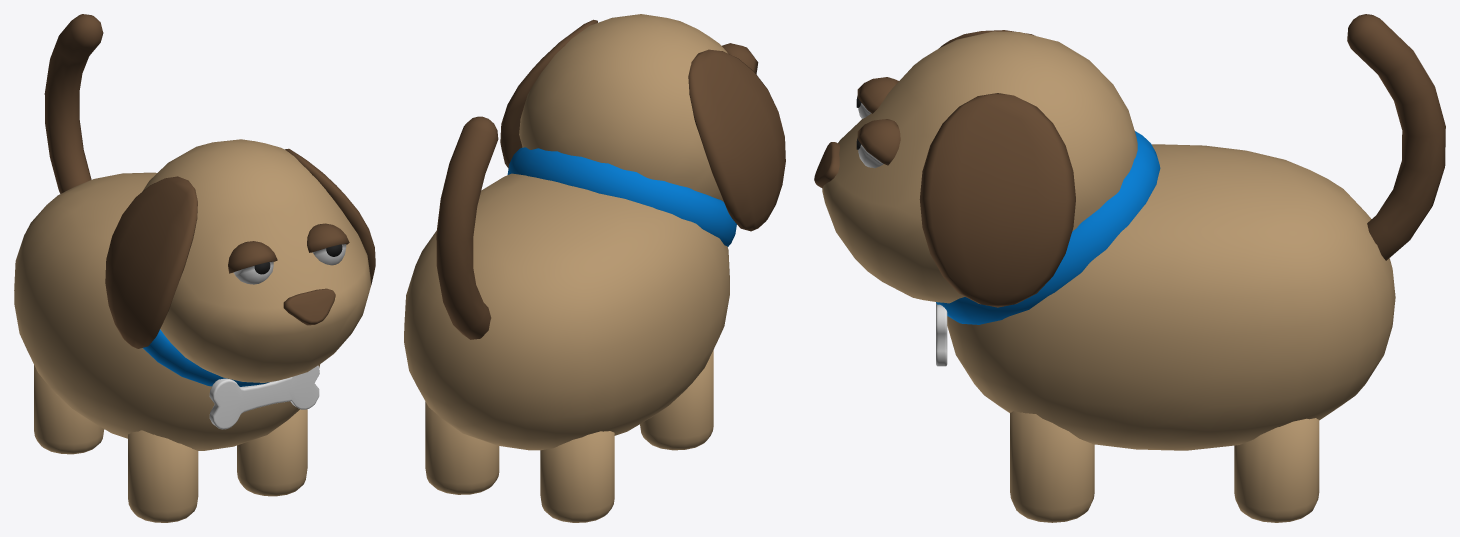
Rendered from Chien.fbx.
3 views of the same model, side by side, from view 1: azimuth 30°, elevation 25°; view 2: azimuth 150°, elevation 25°; view 3: azimuth 270°, elevation 25° (orthographic). The views are drawn at different scales.
Parts seen in each view (by area): view 1: Chien; view 2: Chien; view 3: Chien.
Part boxes in pixels (<box>): Chien: <box>14,14,375,522</box>; Chien: <box>404,14,785,522</box>; Chien: <box>814,14,1445,522</box>.
Size of the model in its own units: 39.49 by 61.84 by 76.64.
